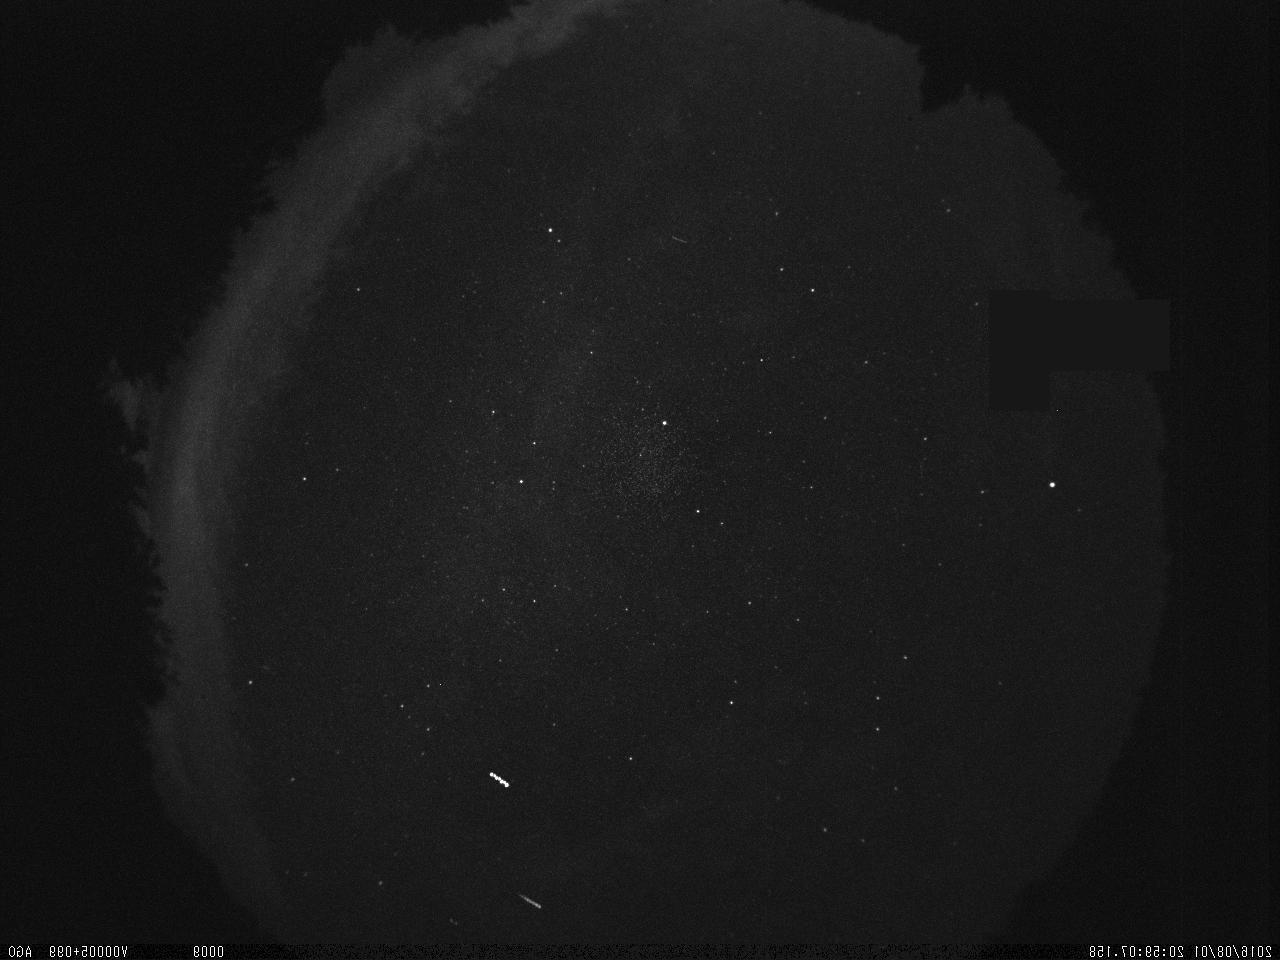meteor: (510, 882, 548, 919)
satelite: (483, 765, 517, 793)
